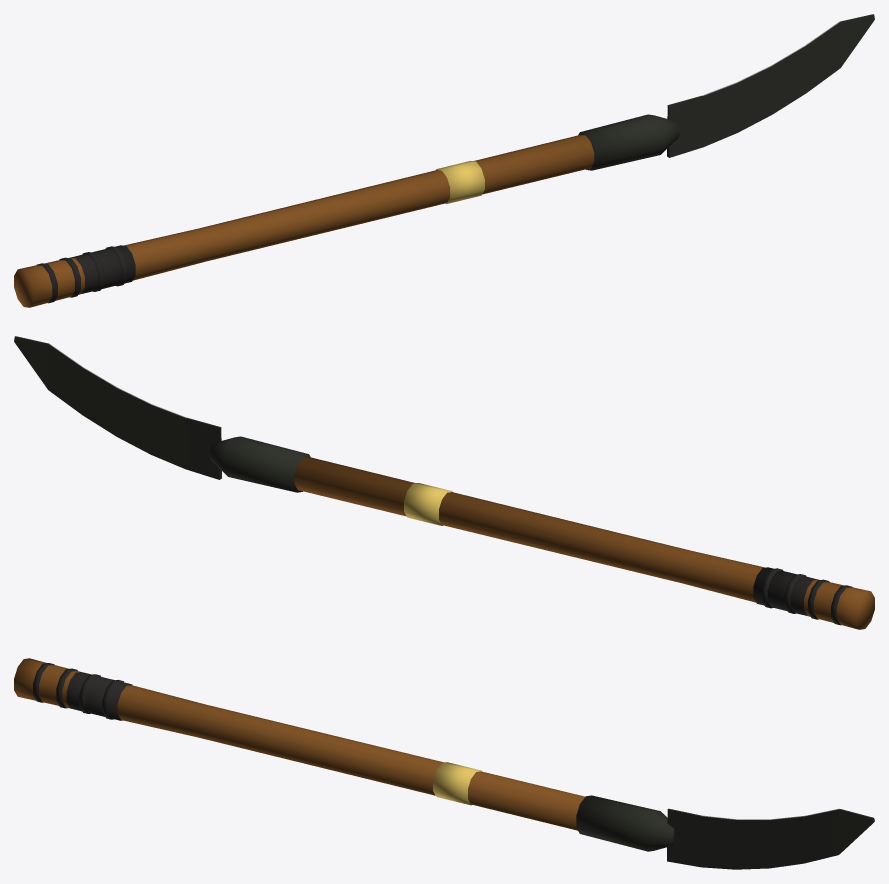
The model's file is item_ditch_blade.glb.
3 renders of one model, top to bottom at view 1: azimuth 30°, elevation 25°; view 2: azimuth 150°, elevation 25°; view 3: azimuth 330°, elevation 25°, orthographic.
Parts seen in each view (by area): view 1: handle, blade, ferrule, grip, band; view 2: handle, blade, ferrule, grip, band; view 3: handle, blade, ferrule, grip, band.
Part boxes in pixels (x1,y1,x2,y2): handle: [14, 134, 594, 307]; blade: [667, 14, 874, 157]; ferrule: [578, 114, 679, 170]; grip: [71, 245, 135, 293]; band: [436, 161, 484, 203]; handle: [294, 456, 874, 629]; blade: [14, 336, 221, 479]; ferrule: [209, 436, 310, 492]; grip: [753, 567, 817, 615]; band: [404, 483, 452, 525]; handle: [14, 658, 584, 830]; blade: [667, 808, 874, 869]; ferrule: [576, 795, 674, 851]; grip: [66, 672, 132, 720]; band: [433, 762, 481, 805].
Bounding box in the file's own units: 1.24 × 0.1306 × 0.0514.
